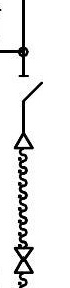terminator_single: (13, 132, 35, 151)
terminator_splicing_kits: (13, 247, 34, 275)
